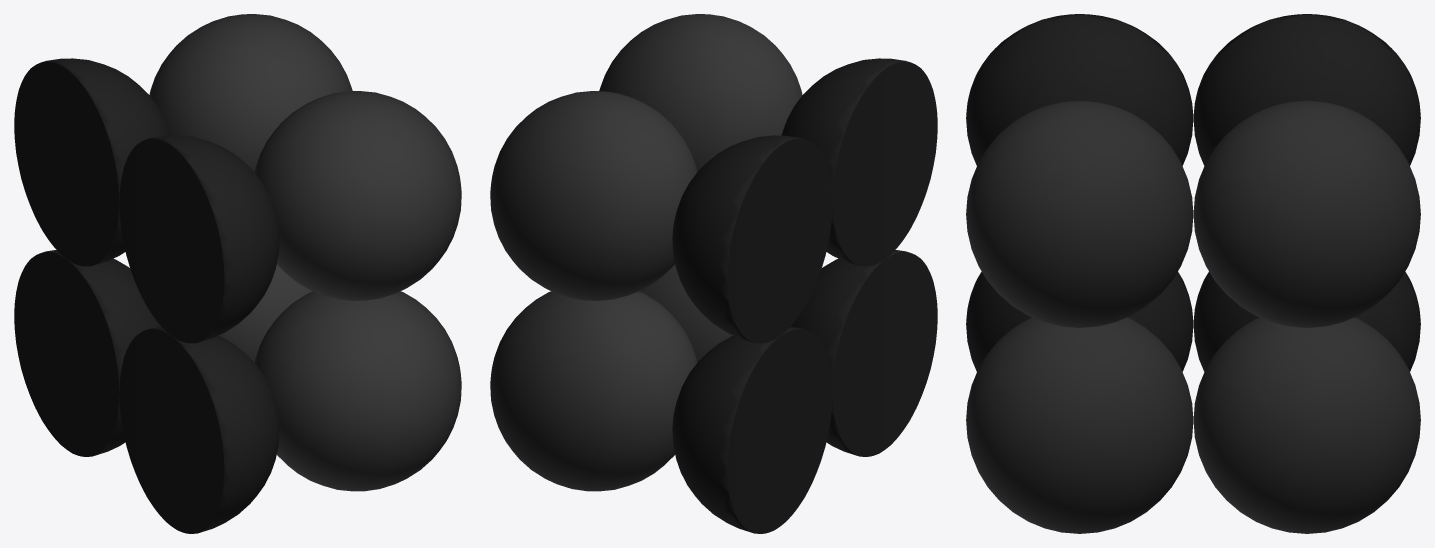
File: solid_state_qn_014.glb
3 views of the same model, side by side, from view 1: azimuth 30°, elevation 25°; view 2: azimuth 150°, elevation 25°; view 3: azimuth 270°, elevation 25° (orthographic). The views are drawn at different scales.
Visible parts, largest first — view 1: Icosphere.064, Icosphere.068, Icosphere.065, Icosphere.069, Icosphere.062, Icosphere.066, Icosphere.063, Icosphere.067; view 2: Icosphere.063, Icosphere.067, Icosphere.062, Icosphere.066, Icosphere.065, Icosphere.069, Icosphere.064, Icosphere.068; view 3: Icosphere.063, Icosphere.064, Icosphere.068, Icosphere.067, Icosphere.062, Icosphere.065, Icosphere.066, Icosphere.069.
Part boxes in pixels (bbox=[...]): Icosphere.064: bbox=[254, 91, 461, 300]; Icosphere.068: bbox=[254, 291, 461, 491]; Icosphere.065: bbox=[119, 135, 279, 343]; Icosphere.069: bbox=[119, 327, 279, 533]; Icosphere.062: bbox=[14, 58, 170, 266]; Icosphere.066: bbox=[14, 250, 161, 456]; Icosphere.063: bbox=[149, 14, 352, 171]; Icosphere.067: bbox=[219, 264, 312, 362]; Icosphere.063: bbox=[490, 91, 697, 300]; Icosphere.067: bbox=[490, 291, 697, 491]; Icosphere.062: bbox=[672, 135, 832, 343]; Icosphere.066: bbox=[672, 327, 832, 533]; Icosphere.065: bbox=[781, 58, 937, 266]; Icosphere.069: bbox=[790, 250, 937, 456]; Icosphere.064: bbox=[599, 14, 802, 171]; Icosphere.068: bbox=[639, 264, 732, 362]; Icosphere.063: bbox=[1193, 100, 1420, 327]; Icosphere.064: bbox=[966, 100, 1193, 327]; Icosphere.068: bbox=[966, 317, 1193, 533]; Icosphere.067: bbox=[1193, 317, 1420, 533]; Icosphere.062: bbox=[1193, 14, 1420, 165]; Icosphere.065: bbox=[966, 14, 1193, 165]; Icosphere.066: bbox=[1193, 271, 1420, 371]; Icosphere.069: bbox=[966, 271, 1193, 371].
Bounding box in the file's own units: 3.03 × 4 × 4.
1 material, 1 textured.
